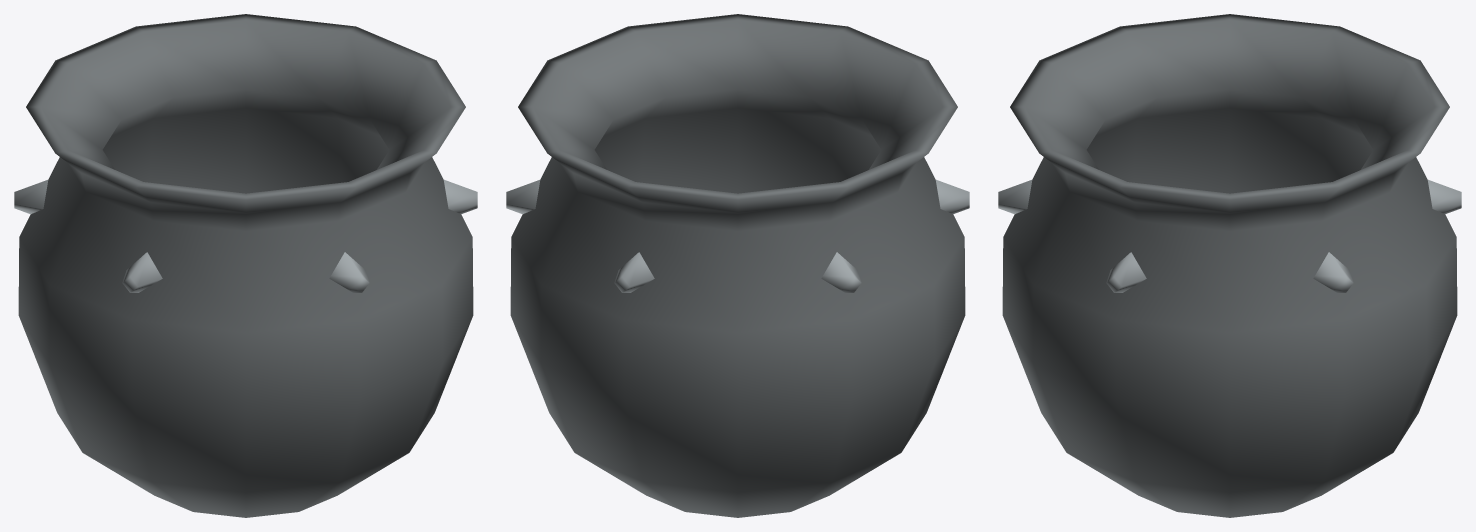
The model's file is rpgpp_ag_pot_02a.fbx.
3 renders of one model, left to right at view 1: azimuth 30°, elevation 25°; view 2: azimuth 150°, elevation 25°; view 3: azimuth 270°, elevation 25°, orthographic.
Parts seen in each view (by area): view 1: rpgpp_ag_pot_02a; view 2: rpgpp_ag_pot_02a; view 3: rpgpp_ag_pot_02a.
Boxes of the visible parts, box(x1,y1,x2,y2) form: rpgpp_ag_pot_02a: box(14, 14, 477, 517); rpgpp_ag_pot_02a: box(506, 14, 969, 517); rpgpp_ag_pot_02a: box(998, 14, 1461, 517).
Bounding box in the file's own units: 0.8622 × 0.766 × 0.8788.
